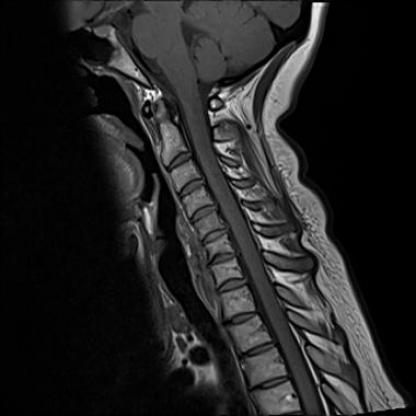Disc Bulgerotation: (207, 251, 238, 266), (188, 205, 217, 221), (200, 229, 229, 244)
